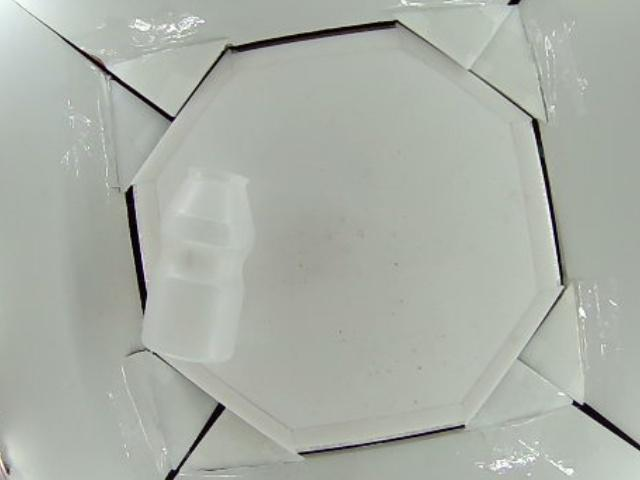Bottle: (139, 165, 251, 362)
